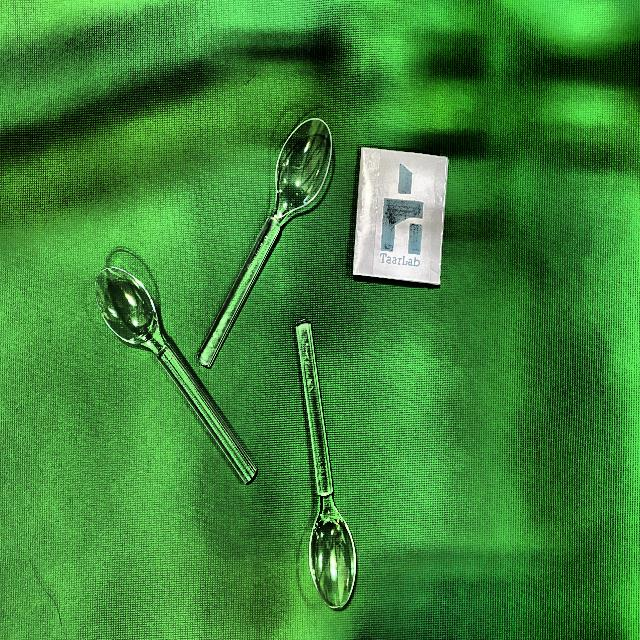plastic utensil: (92, 265, 256, 486), (193, 120, 334, 372), (293, 314, 357, 608)
